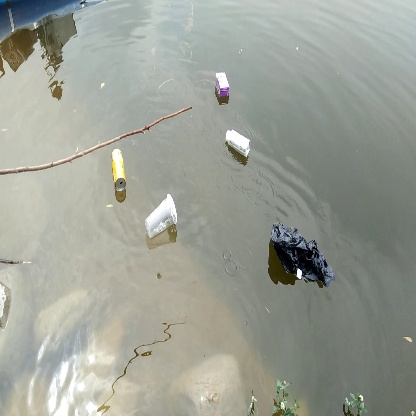bottle: (144, 194, 178, 242), (108, 148, 129, 194)
milk-box: (212, 69, 233, 100)
